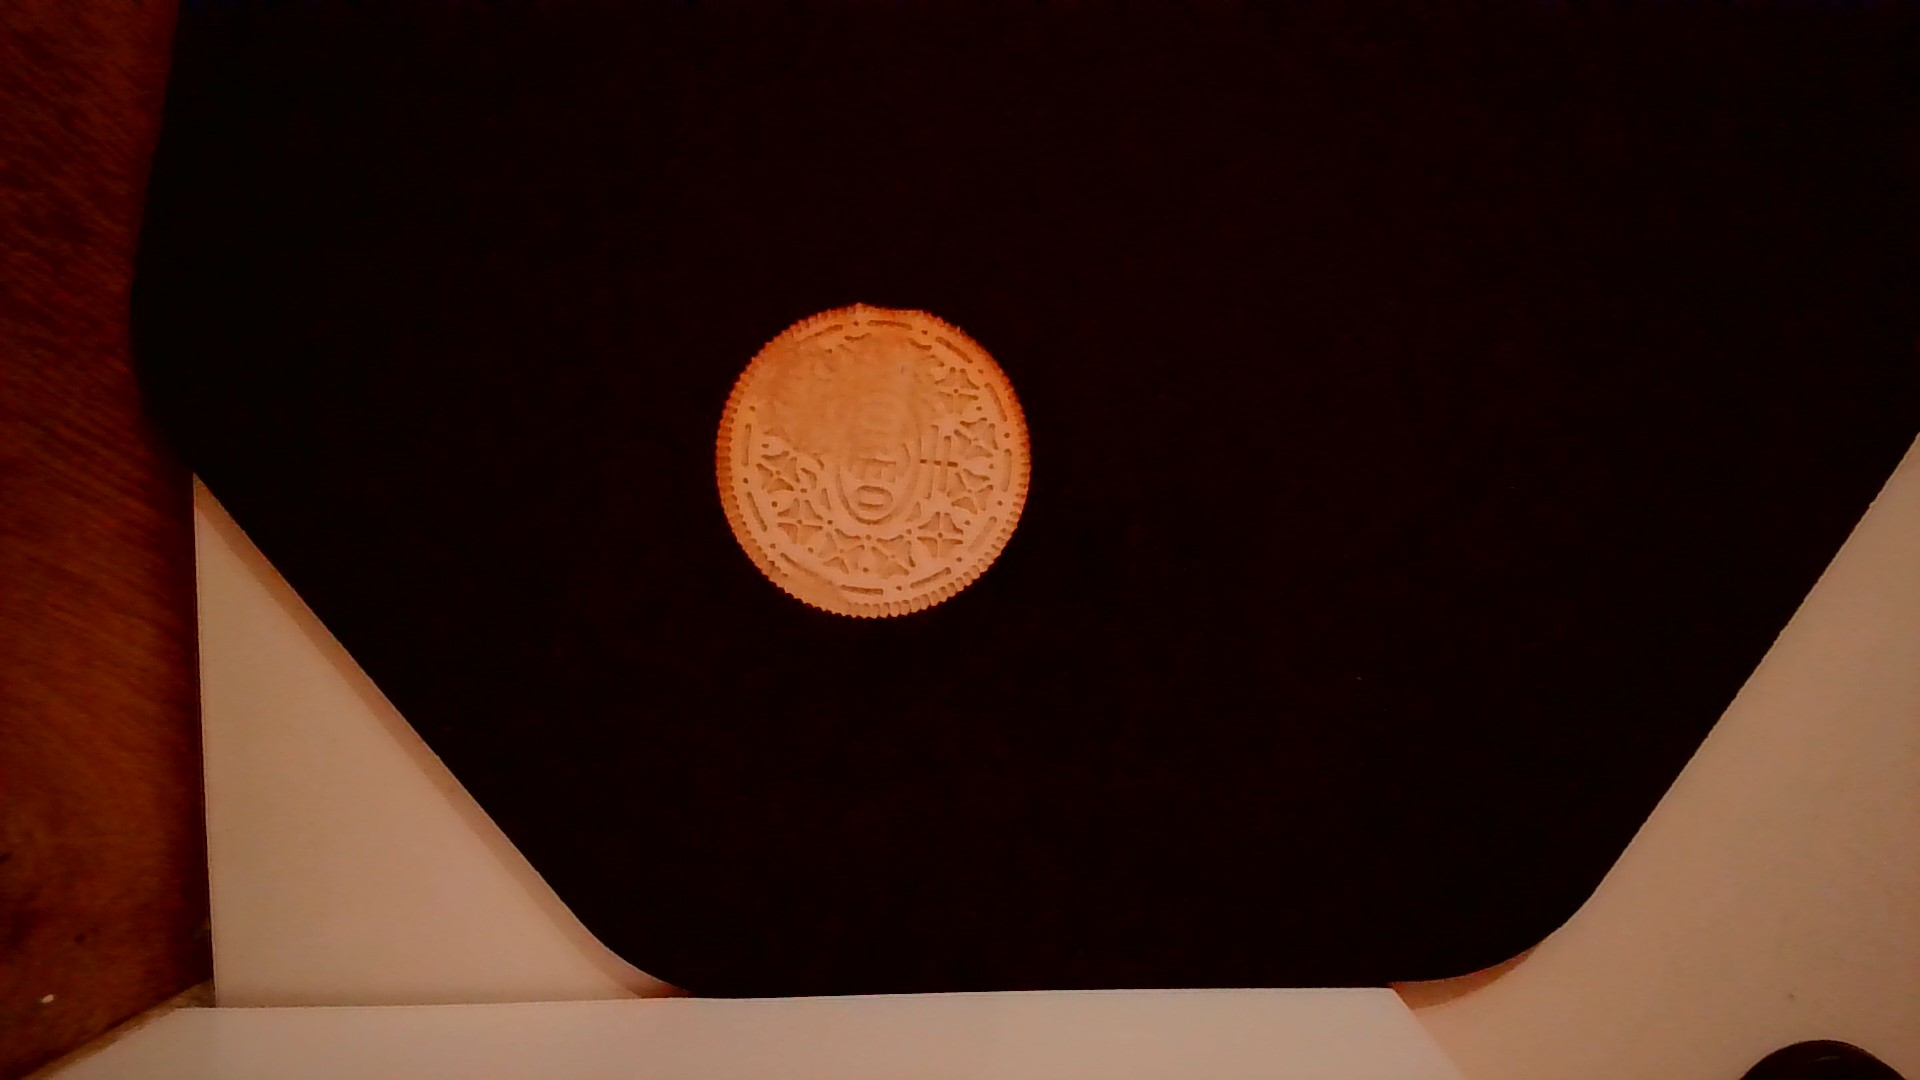Effacé: (765, 344, 931, 452)
Oréo: (705, 301, 1038, 622)
